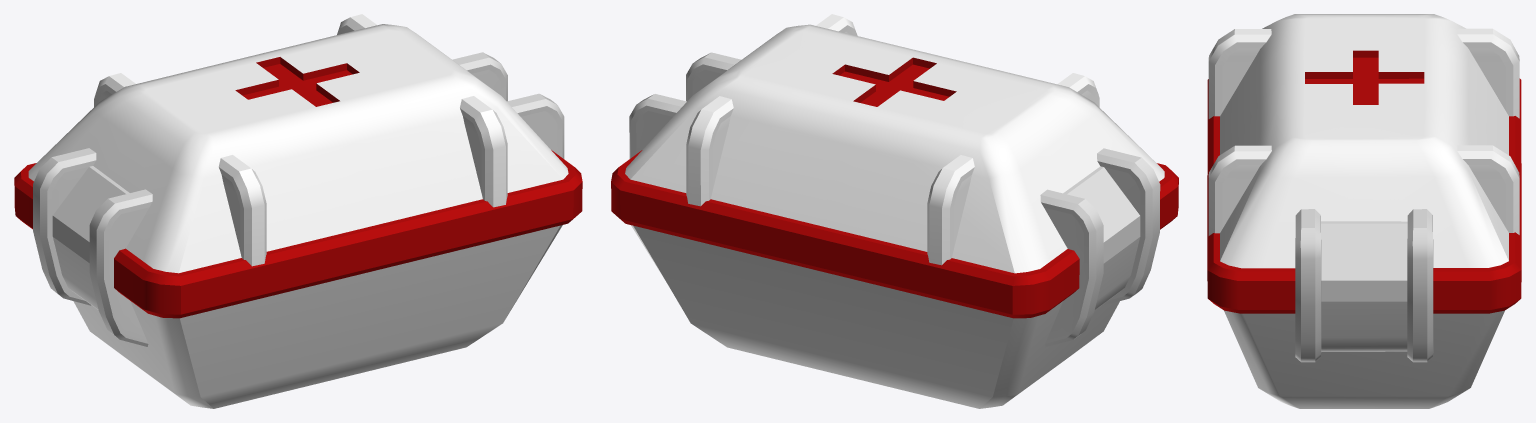
File: Botiquín.fbx
3 views of the same model, side by side, from view 1: azimuth 30°, elevation 25°; view 2: azimuth 150°, elevation 25°; view 3: azimuth 270°, elevation 25° (orthographic).
Visible parts, largest first — view 1: polySurface7; view 2: polySurface7; view 3: polySurface7.
Boxes of the visible parts, <box> form: polySurface7: <box>14,14,582,408</box>; polySurface7: <box>611,14,1178,408</box>; polySurface7: <box>1207,14,1521,408</box>.
Bounding box in the file's own units: 1.4 × 0.7744 × 0.8231.
